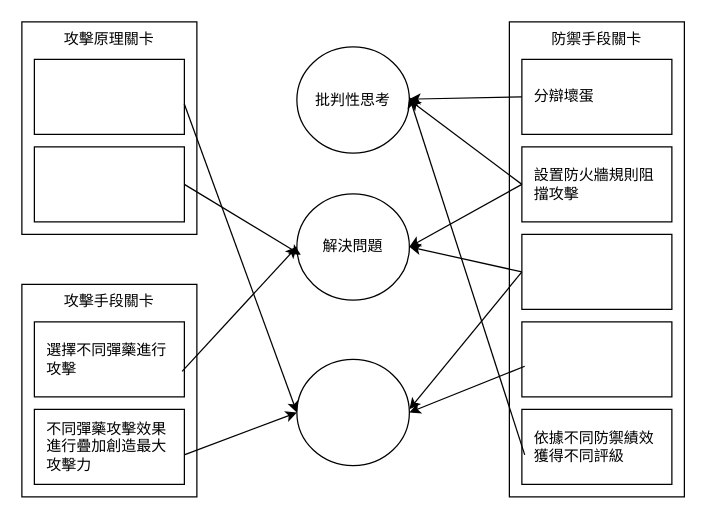
Image size: 706x519. Some labels were removed from this diagram. Each missing label, with the centre of its shape:
"不同攻擊類型和強度" belongs at point (596, 359).
"創造性" belongs at point (352, 412).
"對不同目標發動DDOS攻擊" belongs at point (108, 184).
"控制小病毒，並逐步感染更多電腦" belongs at point (108, 96).
"邀請更多夥伴電腦加入" belongs at point (596, 271).
